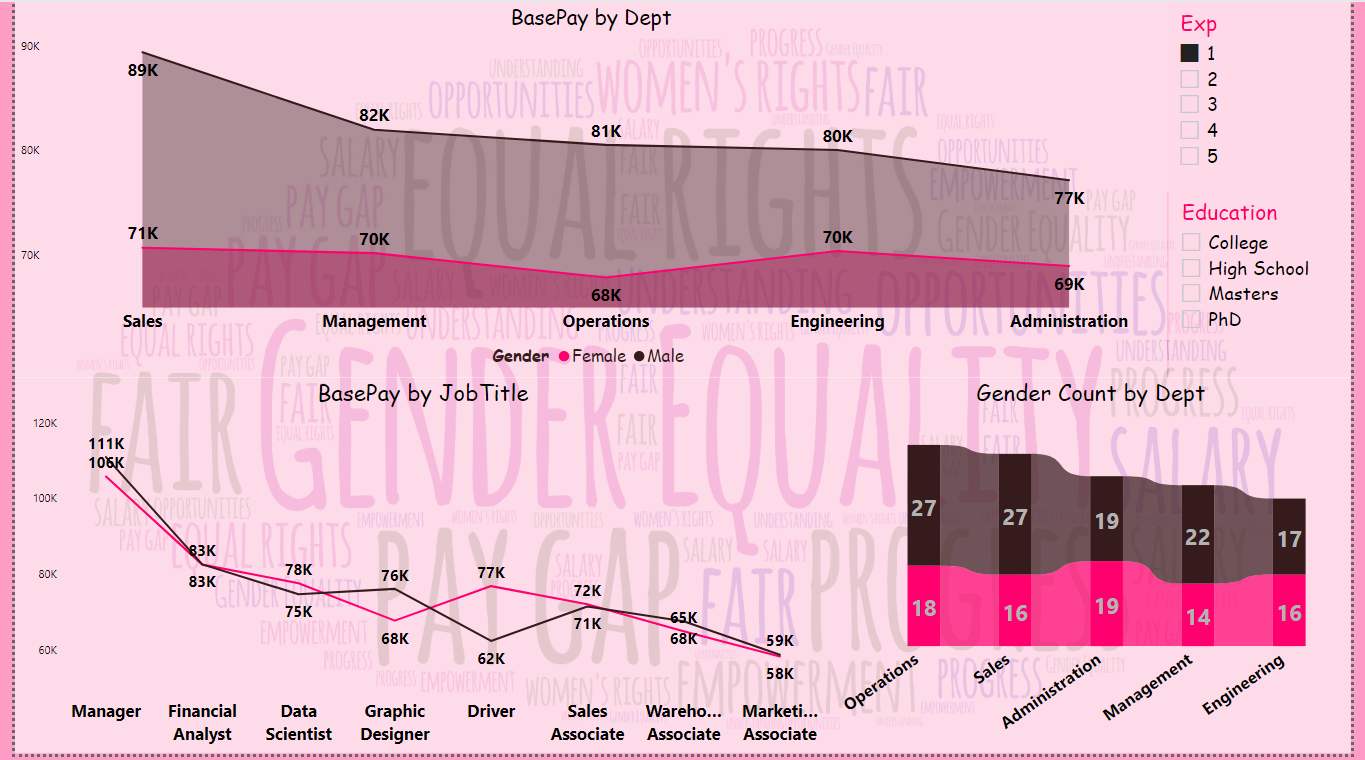

What the dashboard file says about the page in this screenshot:
{"tool":"powerbi","page":{"name":"Page 1","canvas":[1280,720],"ordinal":0},"visuals":[{"type":"areaChart","title":"BasePay by Dept","fields":{"Category":["Glassdoor Gender Pay Gap.Dept"],"Series":["Glassdoor Gender Pay Gap.Gender"],"Y":["Avg(Glassdoor Gender Pay Gap.BasePay)"]},"box":[0,0,1103.9,359.9],"z":0},{"type":"slicer","fields":{"Values":["Glassdoor Gender Pay Gap.Seniority"]},"box":[1103.7,0,175.3,181.1],"z":1000},{"type":"slicer","fields":{"Values":["Glassdoor Gender Pay Gap.Education"]},"box":[1104.5,181,175.5,179.2],"z":2000},{"type":"lineChart","title":"BasePay by JobTitle","fields":{"Category":["Glassdoor Gender Pay Gap.JobTitle"],"Y":["Avg(Glassdoor Gender Pay Gap.BasePay)"],"Series":["Glassdoor Gender Pay Gap.Gender"]},"box":[0,359.9,782,359.9],"z":3000},{"type":"ribbonChart","title":"Gender Count by Dept","fields":{"Category":["Glassdoor Gender Pay Gap.Dept"],"Series":["Glassdoor Gender Pay Gap.Gender"],"Y":["CountNonNull(Glassdoor Gender Pay Gap.Gender)"]},"box":[782,359.9,498,359.9],"z":4000}]}

Visuals, with their boxes in screenshot pixels (x1, y1, x2, y2), scaled from the page's 1280x720 canvas onto the 1365x760 screenshot:
"BasePay by Dept" areaChart: (0, 0, 1177, 380)
slicer - Glassdoor Gender Pay Gap.Seniority: (1177, 0, 1364, 191)
slicer - Glassdoor Gender Pay Gap.Education: (1178, 191, 1364, 380)
"BasePay by JobTitle" lineChart: (0, 380, 834, 759)
"Gender Count by Dept" ribbonChart: (834, 380, 1364, 759)
